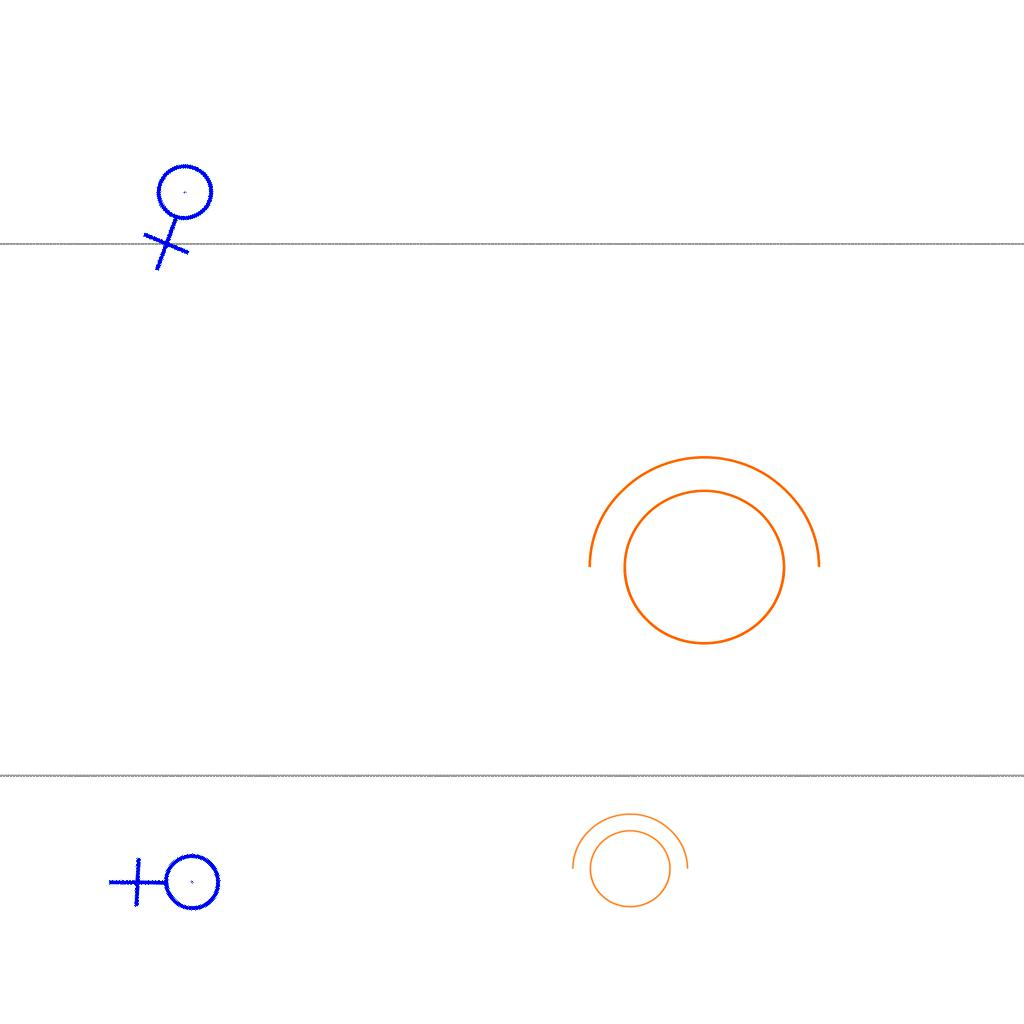Elektroanschluss_allgemein_230V_Geraeteanschlussdose_230V: (103, 817, 240, 955), (116, 149, 247, 277)
Scheinwerfer_fuer_Alarmbeleuchtung: (566, 445, 830, 670), (561, 808, 693, 920)
